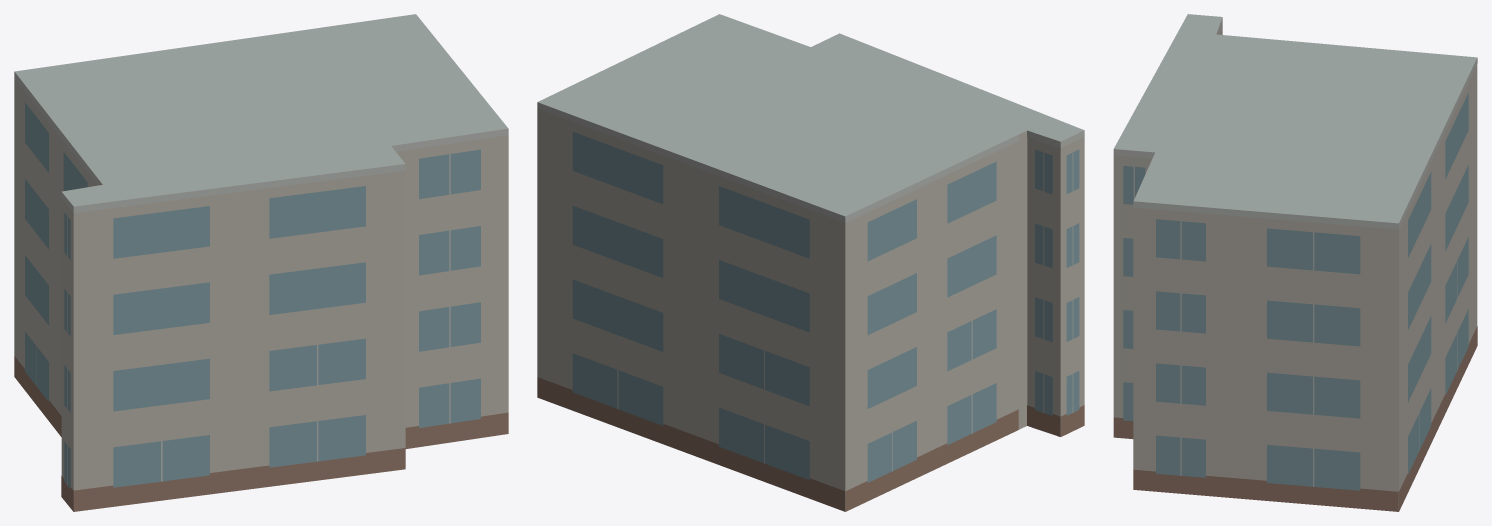
Rendered from survey-upis-32858202.glb.
3 renders of one model, left to right at view 1: azimuth 30°, elevation 25°; view 2: azimuth 150°, elevation 25°; view 3: azimuth 270°, elevation 25°, orthographic. The views are drawn at different scales.
Visible parts, largest first — view 1: survey-upis-32858202.tmp; view 2: survey-upis-32858202.tmp; view 3: survey-upis-32858202.tmp.
Boxes of the visible parts, left/top/right/bottom form: survey-upis-32858202.tmp: left=14, top=14, right=508, bottom=511; survey-upis-32858202.tmp: left=537, top=14, right=1084, bottom=511; survey-upis-32858202.tmp: left=1113, top=14, right=1477, bottom=511.
Size of the model in its own units: 17.44 by 11.2 by 12.81.
